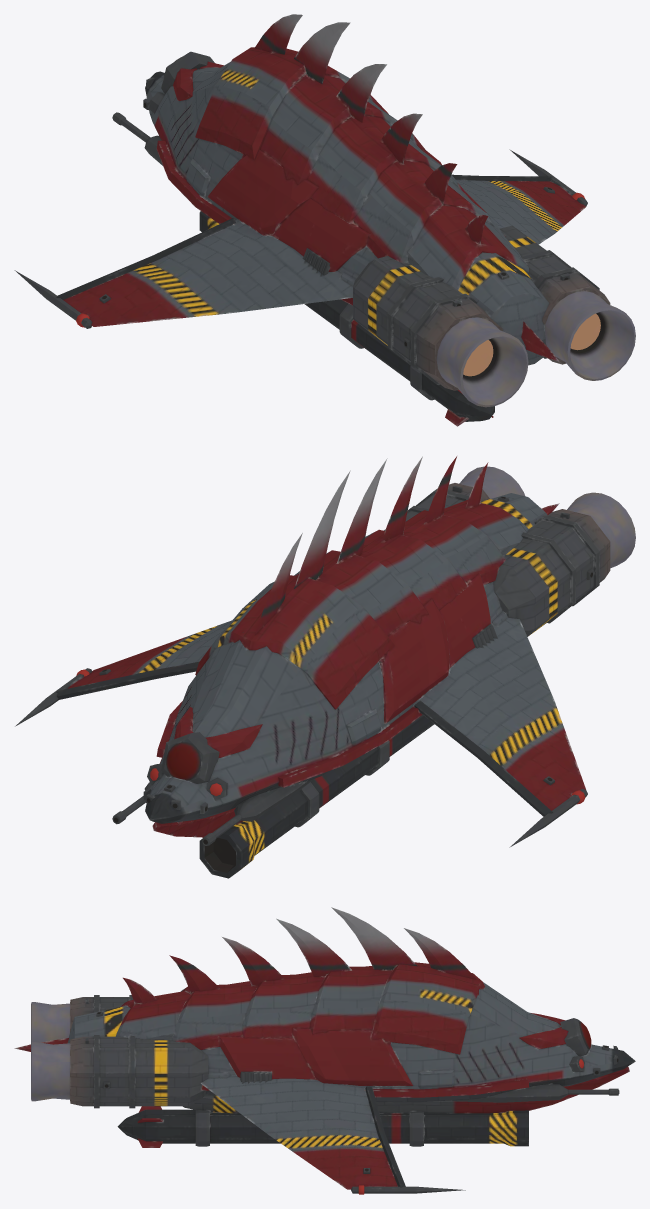
The model's file is maul.glb.
The picture shows the model from 3 angles, top to bottom: view 1: azimuth 30°, elevation 25°; view 2: azimuth 150°, elevation 25°; view 3: azimuth 270°, elevation 25°; orthographic projection. The views are drawn at different scales.
Parts seen in each view (by area): view 1: hull; view 2: hull; view 3: hull.
Boxes of the visible parts, left/top/right/bottom form: hull: left=14, top=14, right=635, bottom=426; hull: left=15, top=456, right=635, bottom=878; hull: left=14, top=907, right=635, bottom=1194.
Bounding box in the file's own units: 12.44 × 7.31 × 17.45.
1 material, 1 textured.
